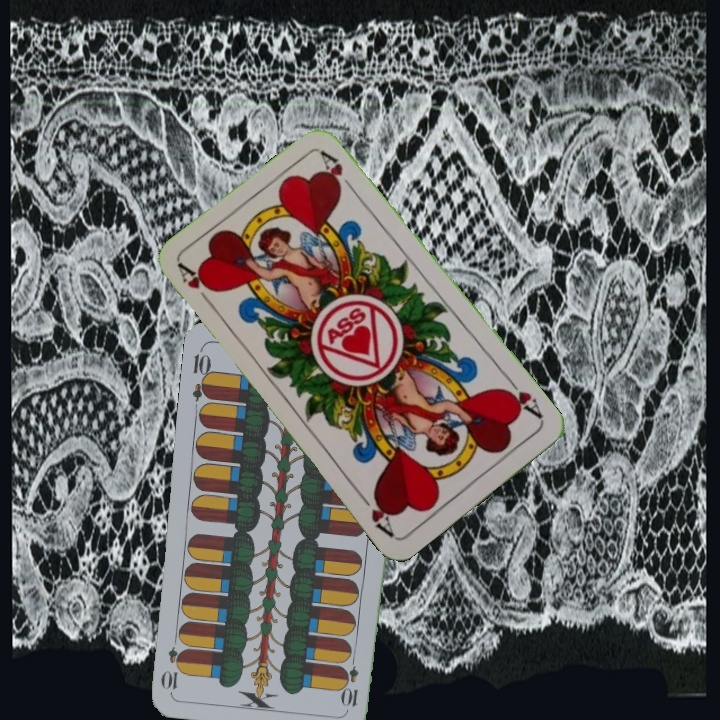E10: (188, 344, 215, 403), (341, 650, 362, 709)
HA: (497, 373, 546, 422), (174, 260, 219, 311)
